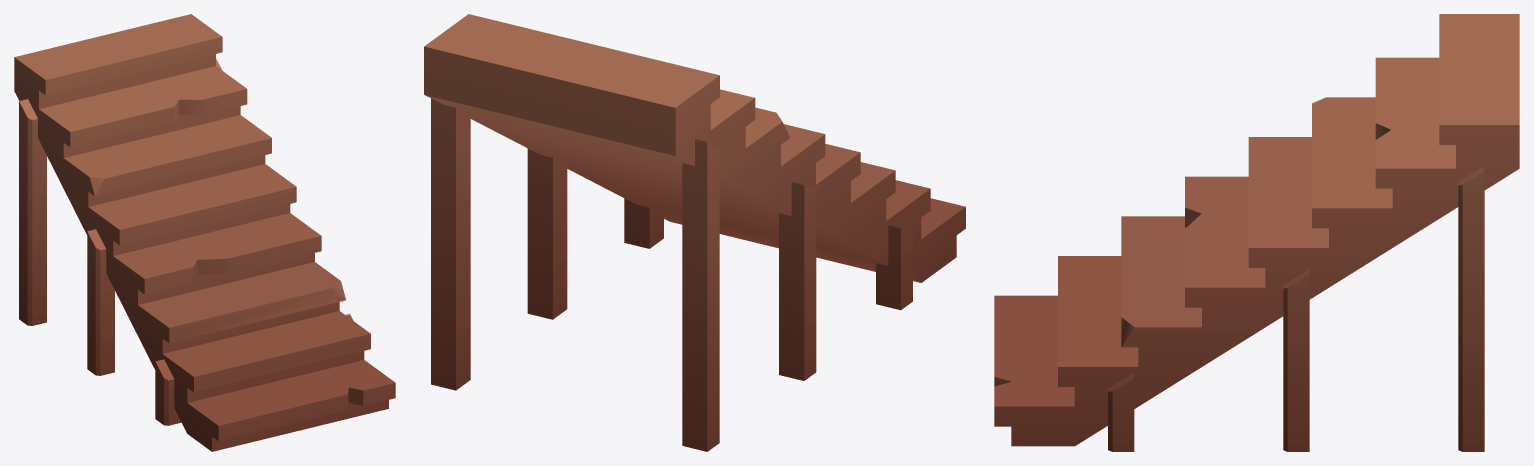
Rendered from stairs.glb.
The picture shows the model from 3 angles, left to right: view 1: azimuth 30°, elevation 25°; view 2: azimuth 150°, elevation 25°; view 3: azimuth 270°, elevation 25°; orthographic projection. The views are drawn at different scales.
Parts seen in each view (by area): view 1: stairs_wood; view 2: stairs_wood; view 3: stairs_wood.
Part boxes in pixels (<box>): stairs_wood: <box>14,14,395,451</box>; stairs_wood: <box>424,14,965,451</box>; stairs_wood: <box>994,14,1519,451</box>.
Size of the model in its own units: 3.3 by 4.05 by 6.
1 material, 1 textured.
